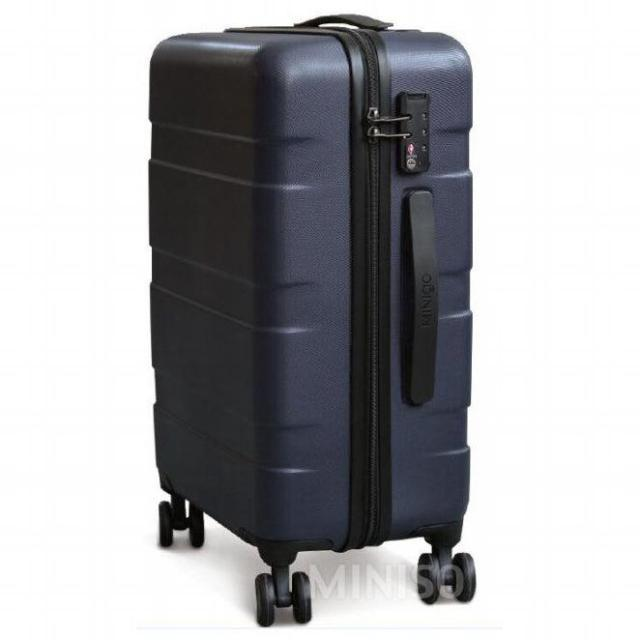luggage: (141, 12, 477, 556)
